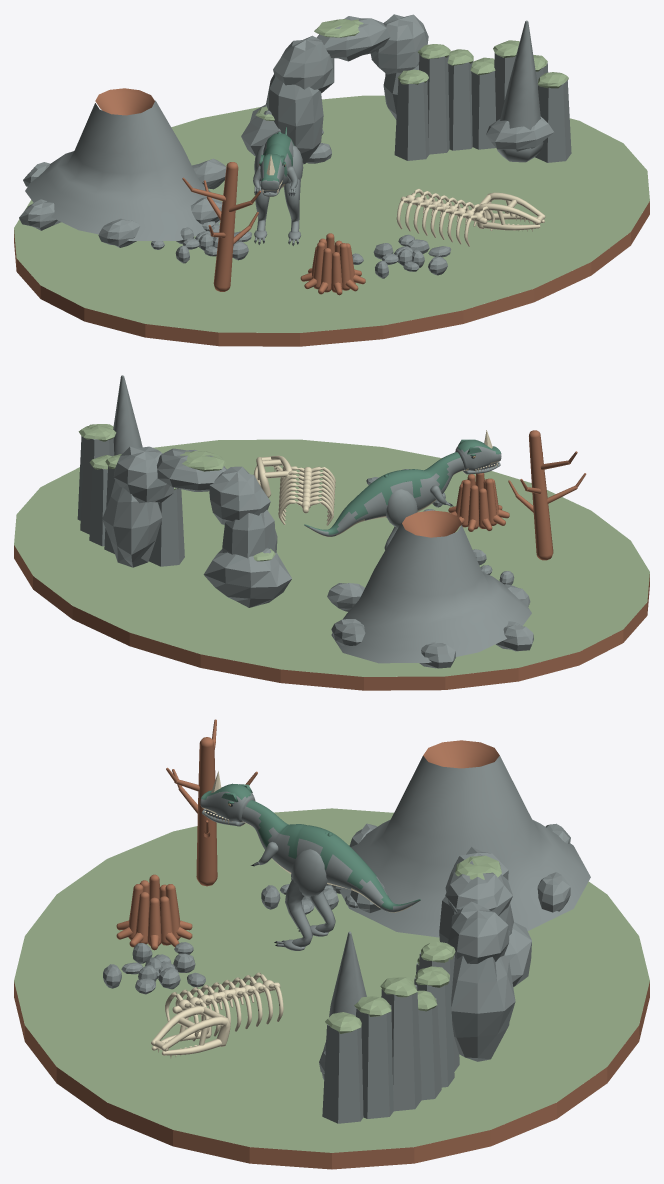
File: primeval-frontier-fossil-ravine-cf9a0c6a__1793.glb
3 renders of one model, top to bottom at view 1: azimuth 30°, elevation 25°; view 2: azimuth 150°, elevation 25°; view 3: azimuth 270°, elevation 25°, orthographic. The views are drawn at different scales.
Parts seen in each view (by area): view 1: 000-forest-habitat-base/1, 003-dormant-volcanic-cone/0, 010-columnar-cliff-corner/0, 002-stone-arch/0, 000-forest-habitat-base/0, 006-basalt-pinnacle/0, 007-dead-tree-snag/0, 001-ceratosaurus/1, 010-columnar-cliff-corner/1, 004-ribcage-fossil/0, 009-hollow-stump/0, 008-basalt-scree/0 (+6 smaller); view 2: 000-forest-habitat-base/1, 003-dormant-volcanic-cone/0, 002-stone-arch/0, 000-forest-habitat-base/0, 010-columnar-cliff-corner/0, 001-ceratosaurus/1, 012-basalt-boulder/0, 007-dead-tree-snag/0, 001-ceratosaurus/0, 009-hollow-stump/0, 004-ribcage-fossil/0, 006-basalt-pinnacle/0 (+4 smaller); view 3: 000-forest-habitat-base/1, 003-dormant-volcanic-cone/0, 010-columnar-cliff-corner/0, 002-stone-arch/0, 000-forest-habitat-base/0, 001-ceratosaurus/1, 001-ceratosaurus/0, 009-hollow-stump/0, 010-columnar-cliff-corner/1, 004-ribcage-fossil/0, 007-dead-tree-snag/0, 008-basalt-scree/0 (+6 smaller).
Part boxes in pixels (box(x1,y1,x2,y2)): 000-forest-habitat-base/1: box(14, 95, 649, 332); 003-dormant-volcanic-cone/0: box(19, 100, 226, 247); 010-columnar-cliff-corner/0: box(394, 53, 571, 162); 002-stone-arch/0: box(266, 14, 428, 164); 000-forest-habitat-base/0: box(14, 201, 649, 346); 006-basalt-pinnacle/0: box(486, 20, 553, 162); 007-dead-tree-snag/0: box(182, 162, 261, 291); 001-ceratosaurus/1: box(253, 132, 303, 243); 010-columnar-cliff-corner/1: box(397, 40, 568, 88); 004-ribcage-fossil/0: box(396, 189, 494, 246); 009-hollow-stump/0: box(300, 233, 365, 295); 008-basalt-scree/0: box(352, 234, 451, 278); 000-forest-habitat-base/1: box(14, 439, 649, 676); 003-dormant-volcanic-cone/0: box(327, 523, 533, 668); 002-stone-arch/0: box(102, 446, 277, 567); 000-forest-habitat-base/0: box(14, 545, 649, 690); 010-columnar-cliff-corner/0: box(77, 436, 184, 566); 001-ceratosaurus/1: box(304, 446, 501, 549); 012-basalt-boulder/0: box(203, 548, 291, 607); 007-dead-tree-snag/0: box(508, 430, 586, 560); 001-ceratosaurus/0: box(304, 439, 500, 534); 009-hollow-stump/0: box(448, 473, 509, 531); 004-ribcage-fossil/0: box(278, 466, 335, 525); 006-basalt-pinnacle/0: box(113, 375, 142, 455); 000-forest-habitat-base/1: box(14, 808, 649, 1152); 003-dormant-volcanic-cone/0: box(339, 756, 590, 937); 010-columnar-cliff-corner/0: box(322, 952, 459, 1123); 002-stone-arch/0: box(439, 846, 515, 1061); 000-forest-habitat-base/0: box(14, 981, 649, 1169); 001-ceratosaurus/1: box(200, 791, 420, 950); 001-ceratosaurus/0: box(201, 783, 420, 909); 009-hollow-stump/0: box(116, 874, 192, 950); 010-columnar-cliff-corner/1: box(325, 941, 455, 1033); 004-ribcage-fossil/0: box(165, 972, 283, 1041); 007-dead-tree-snag/0: box(166, 719, 257, 886); 008-basalt-scree/0: box(103, 942, 205, 994).
Bounding box in the file's own units: 17 × 4.25 × 13.26.
